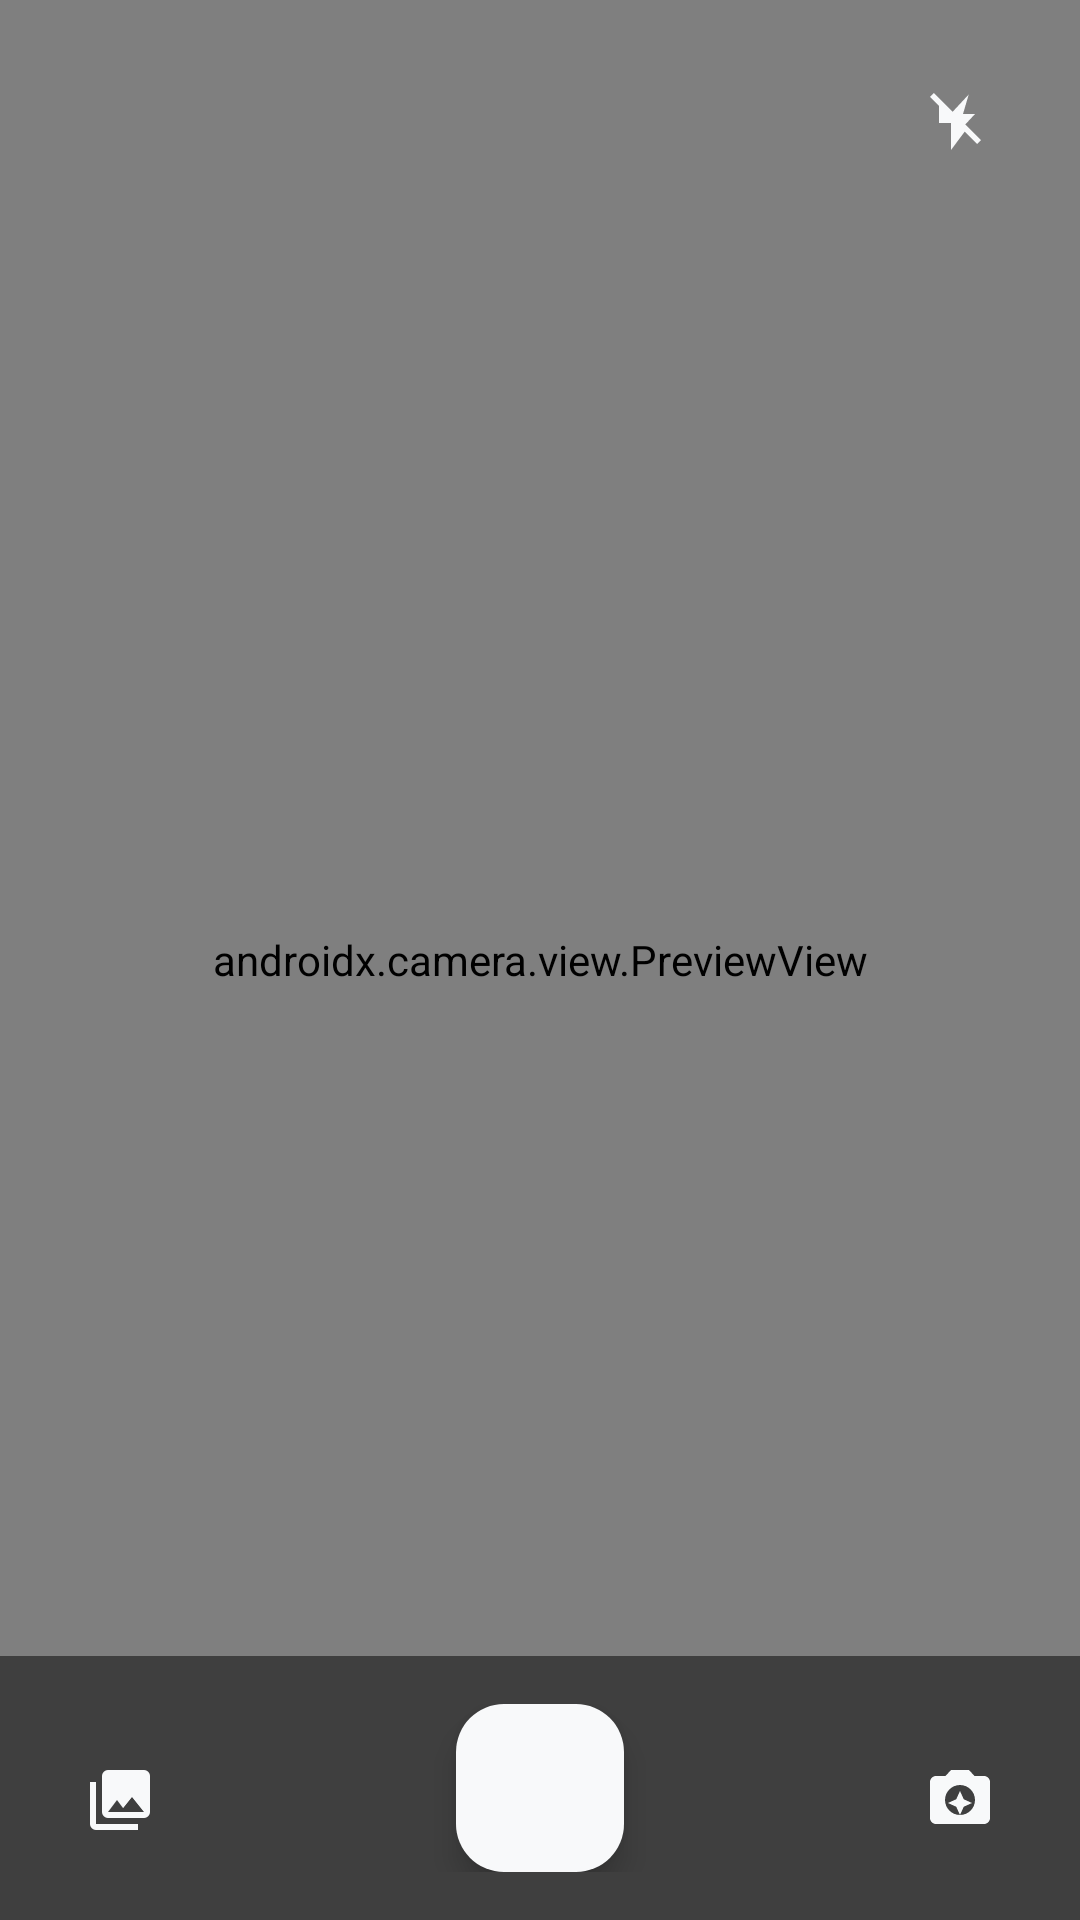

Icon click points for this 1080px x 1920px phone screenshot, format [x,y]:
flash off: [955,121]
gallery: [120,1800]
